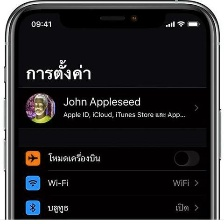phone: (1, 0, 223, 224)
